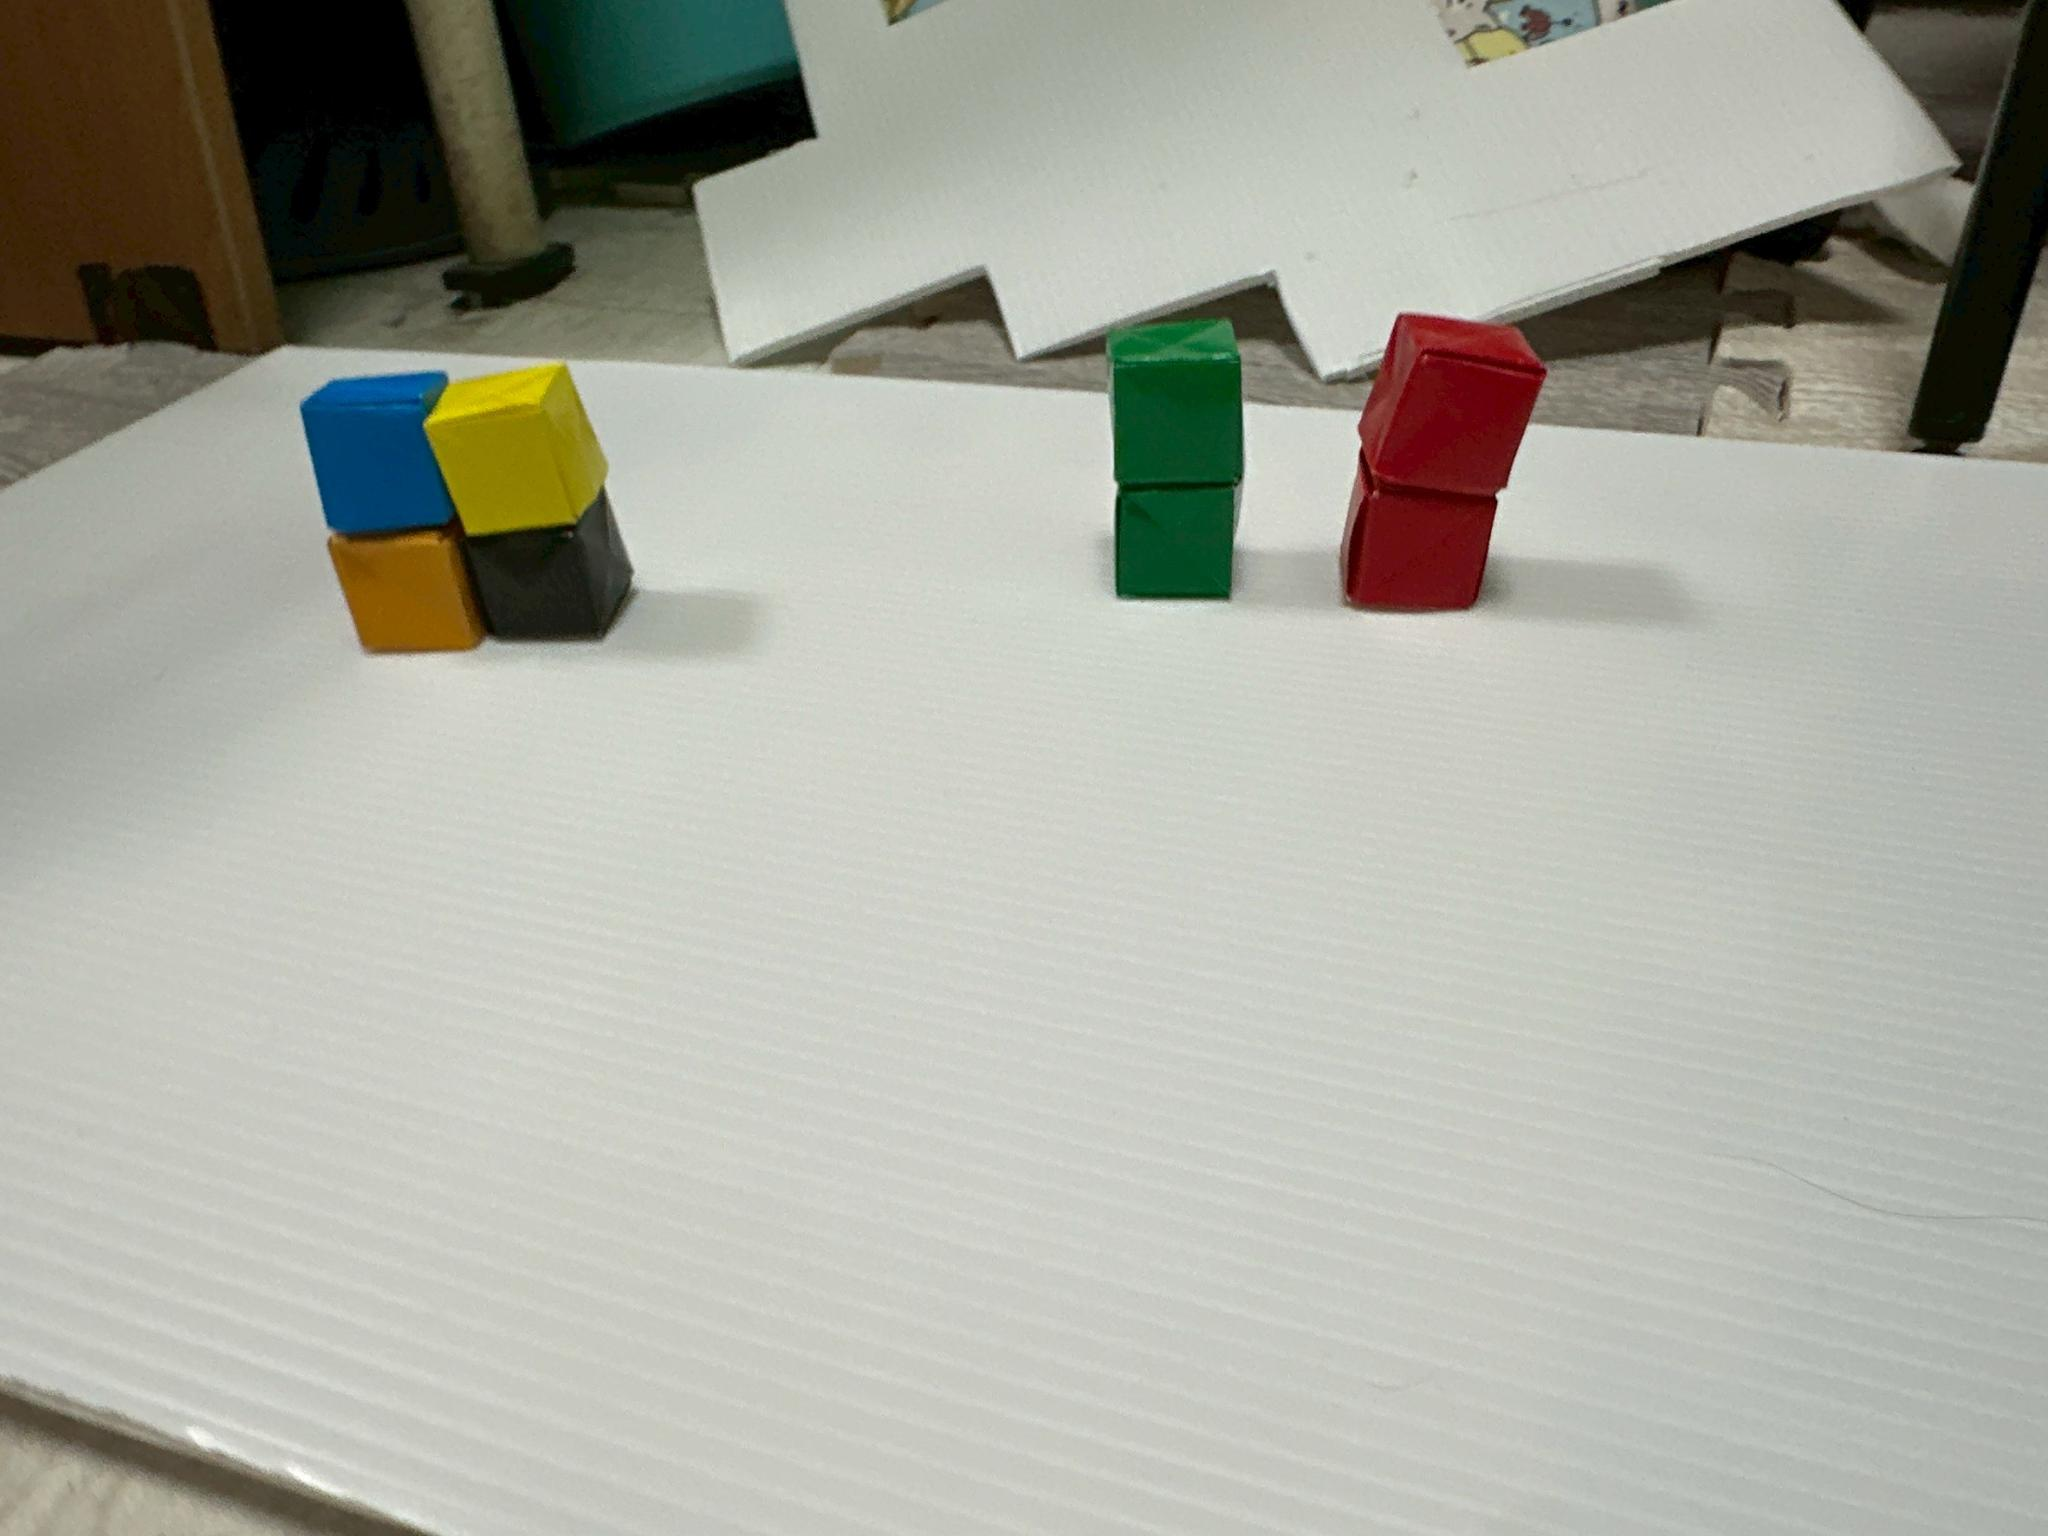cube: (1359, 315, 1545, 497), (427, 363, 606, 536), (461, 489, 632, 639), (300, 373, 455, 534), (1342, 458, 1496, 610), (1108, 319, 1242, 487), (329, 529, 485, 652), (1114, 486, 1235, 597)
